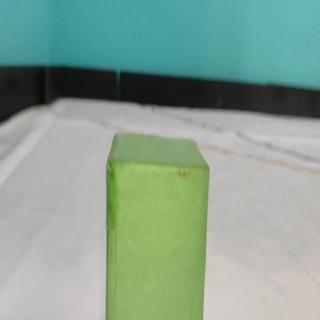greenbox: (104, 129, 212, 320)
